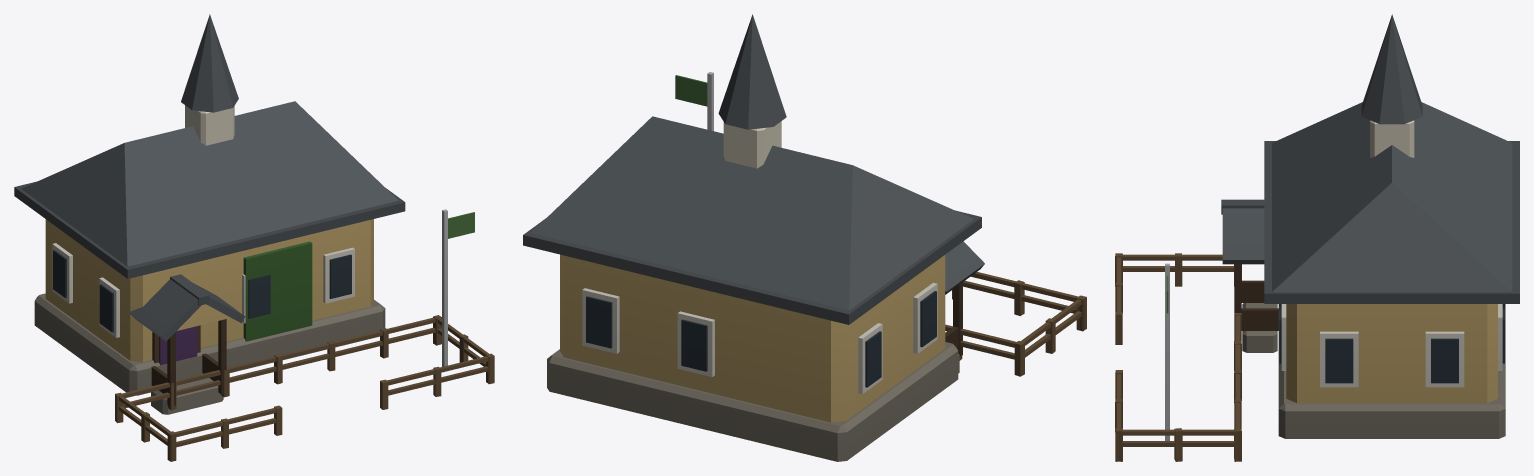
Rendered from school.glb.
3 views of the same model, side by side, from view 1: azimuth 30°, elevation 25°; view 2: azimuth 150°, elevation 25°; view 3: azimuth 270°, elevation 25° (orthographic). The views are drawn at different scales.
Parts seen in each view (by area): view 1: school_model; view 2: school_model; view 3: school_model.
Part boxes in pixels (left/top/right/bottom): school_model: left=14, top=14, right=494, bottom=461; school_model: left=523, top=14, right=1086, bottom=461; school_model: left=1115, top=14, right=1519, bottom=461.
Size of the model in its own units: 0.9517 by 0.9049 by 0.9049.
